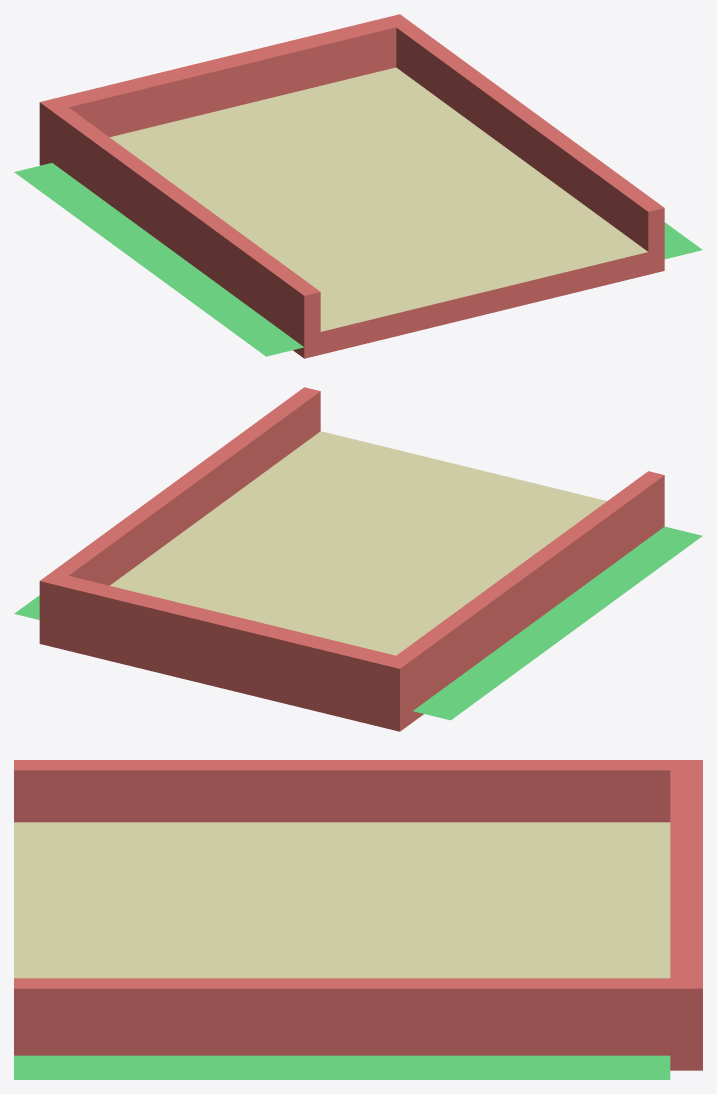
Rendered from deadend_tile.fbx.
3 views of the same model, one above another, from view 1: azimuth 30°, elevation 25°; view 2: azimuth 150°, elevation 25°; view 3: azimuth 270°, elevation 25° (orthographic). The views are drawn at different scales.
Visible parts, largest first — view 1: 1_cube, Plane; view 2: 1_cube, Plane; view 3: 1_cube, Plane.
Boxes of the visible parts, x1,y1,x2,y2 form: 1_cube: (39,14,664,358); Plane: (14,163,702,356); 1_cube: (39,387,664,731); Plane: (14,526,702,720); 1_cube: (14,760,702,1070); Plane: (14,1055,670,1079).
Bounding box in the file's own units: 200 × 27.5 × 210.
